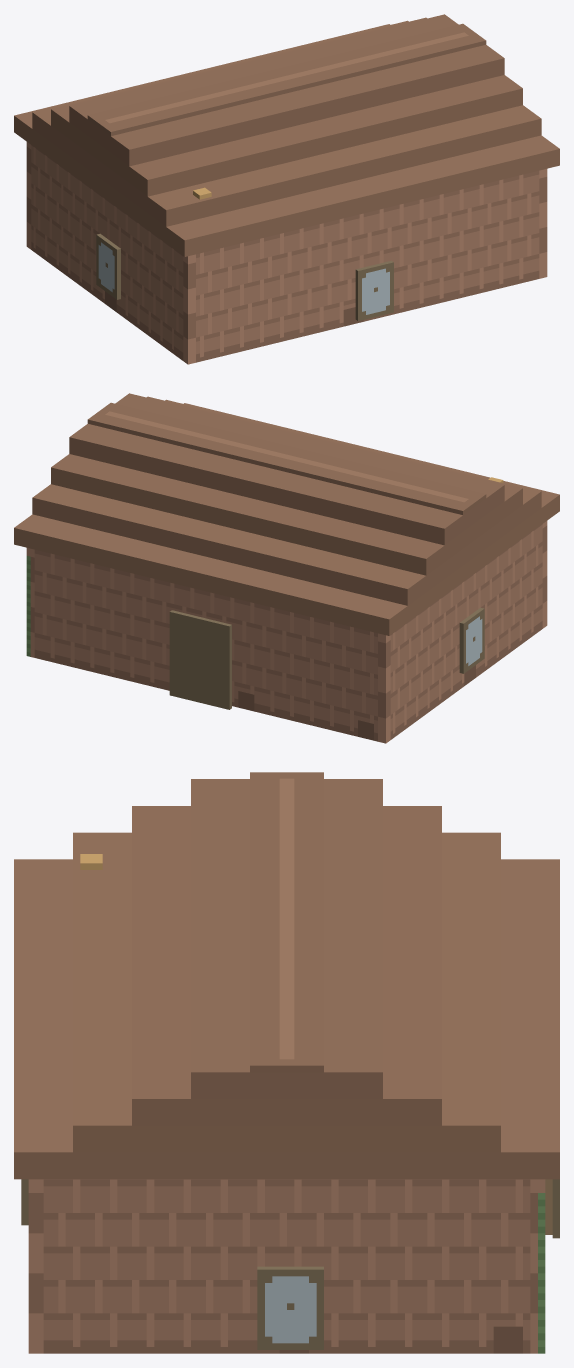
Rendered from panaderia_03.glb.
3 renders of one model, top to bottom at view 1: azimuth 30°, elevation 25°; view 2: azimuth 150°, elevation 25°; view 3: azimuth 270°, elevation 25°, orthographic. The views are drawn at different scales.
Parts seen in each view (by area): view 1: panaderia_03; view 2: panaderia_03; view 3: panaderia_03.
Part boxes in pixels (x1,y1,x2,y2): panaderia_03: (14, 14, 559, 364); panaderia_03: (14, 393, 559, 743); panaderia_03: (14, 772, 559, 1353).
Bounding box in the file's own units: 9.4 × 4.4 × 7.4.
